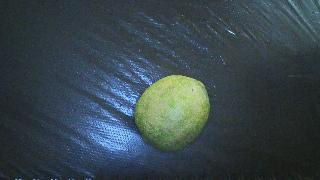DESECHO: (135, 75, 210, 152)
